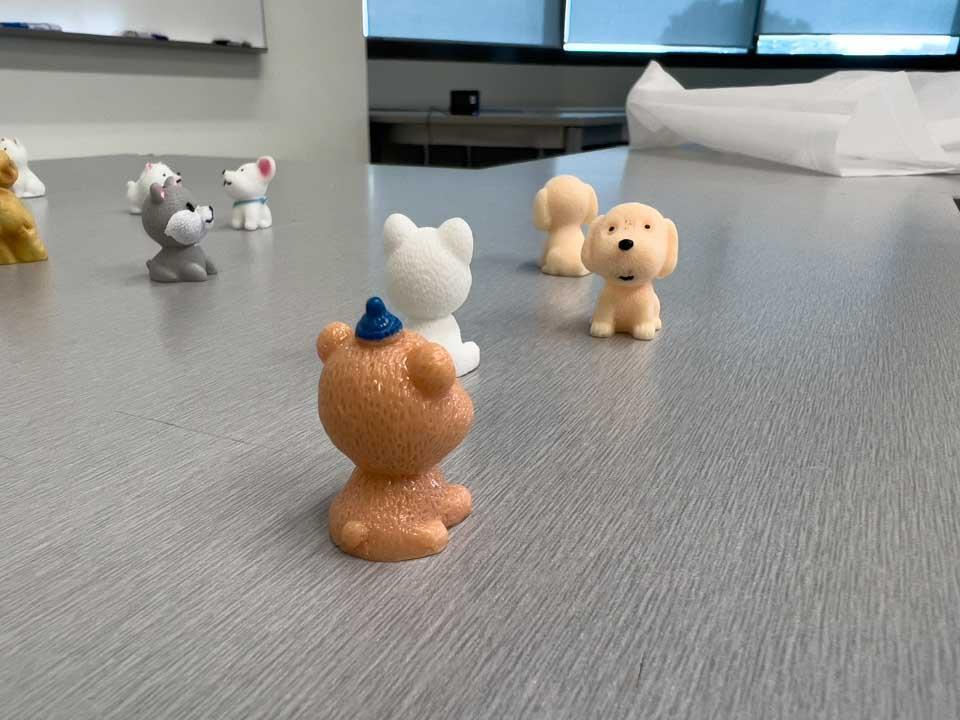pet: (315, 293, 475, 565), (379, 213, 478, 378), (580, 200, 682, 348), (139, 178, 224, 283), (532, 170, 600, 277), (0, 147, 49, 270), (219, 157, 281, 235), (122, 157, 187, 215), (0, 133, 54, 201)
